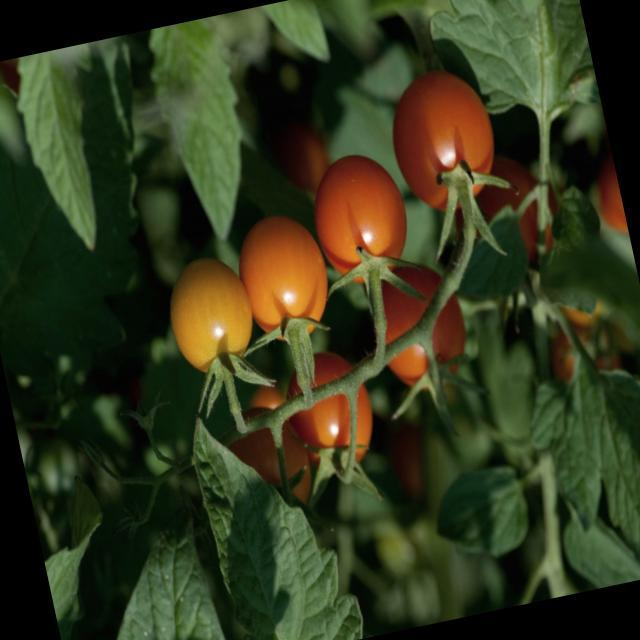Tomato healthy leaf: (196, 430, 358, 640), (430, 0, 601, 117), (532, 362, 640, 546), (149, 15, 241, 221), (15, 51, 96, 245), (118, 546, 229, 640), (435, 461, 528, 555)
